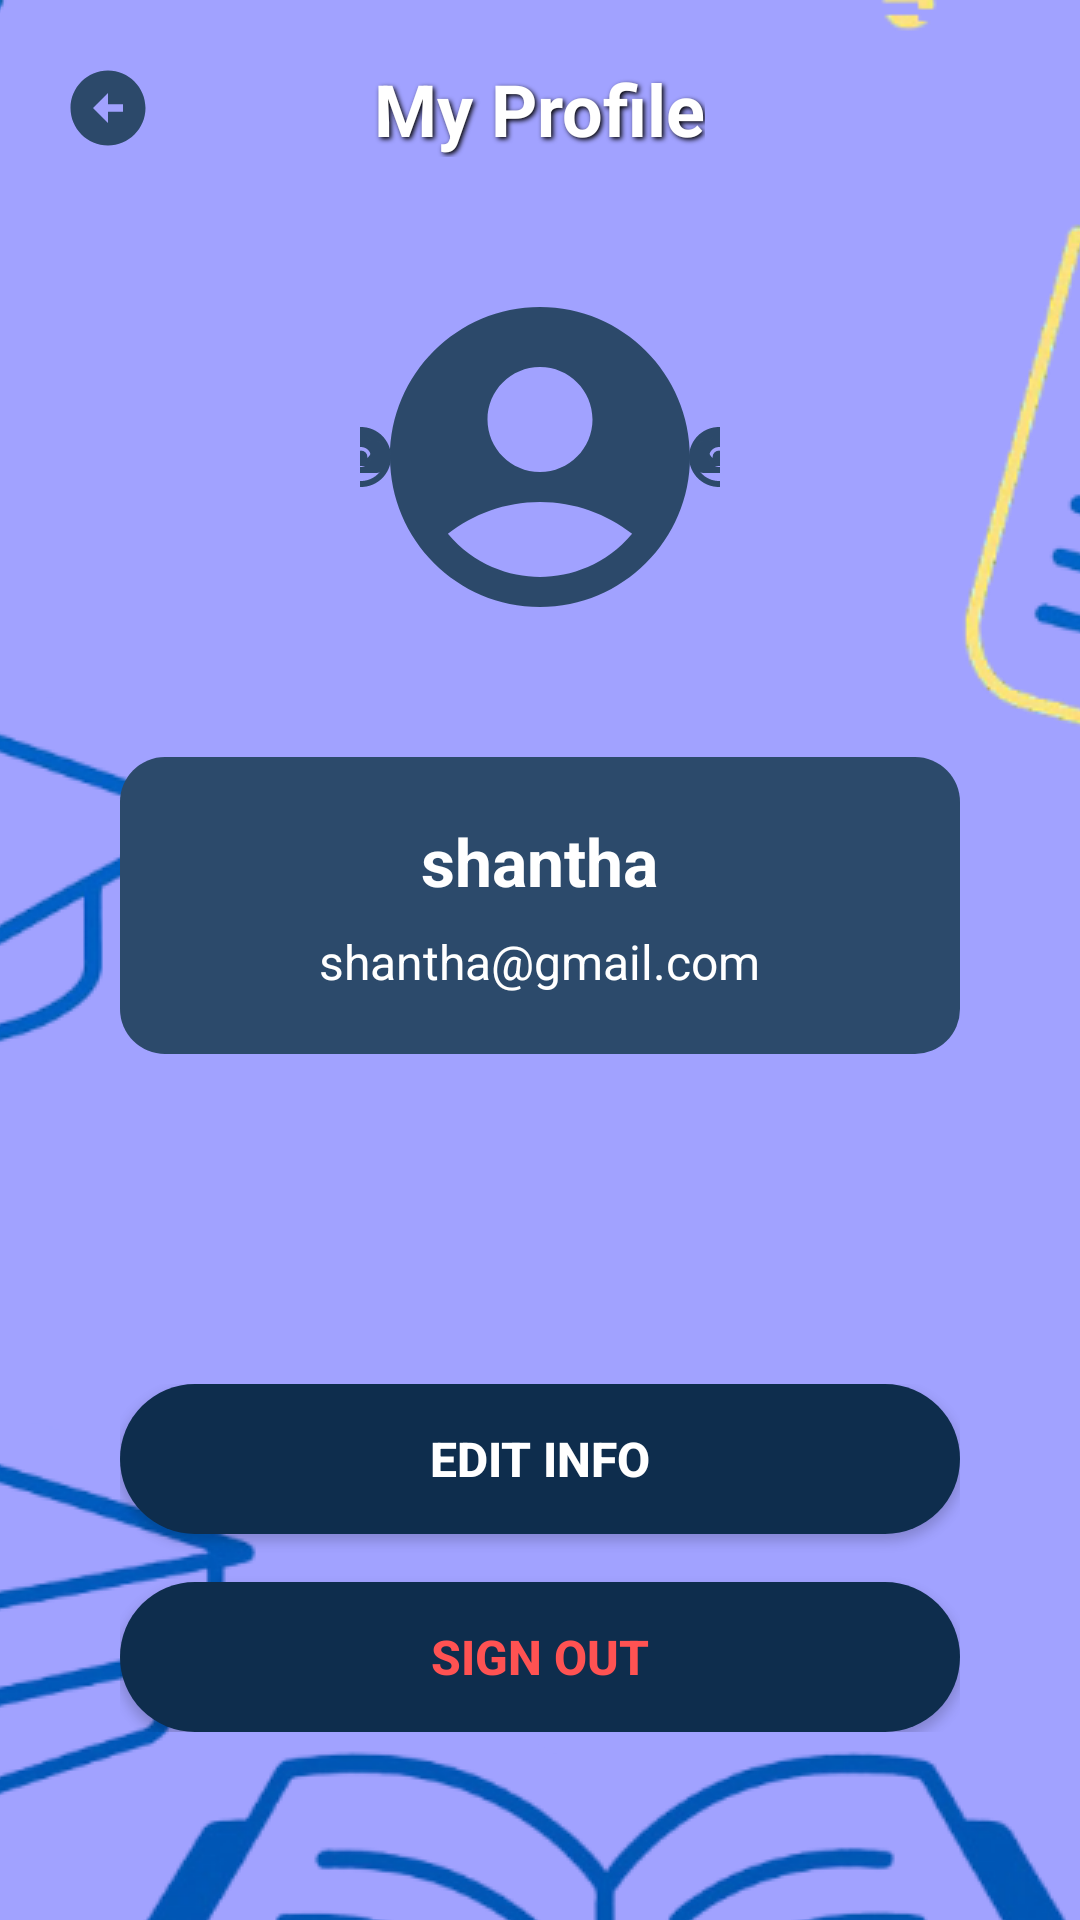

Icon click points for this 1080 x 1920 phone screenshot, format [x,y]:
Back: [108,108]
